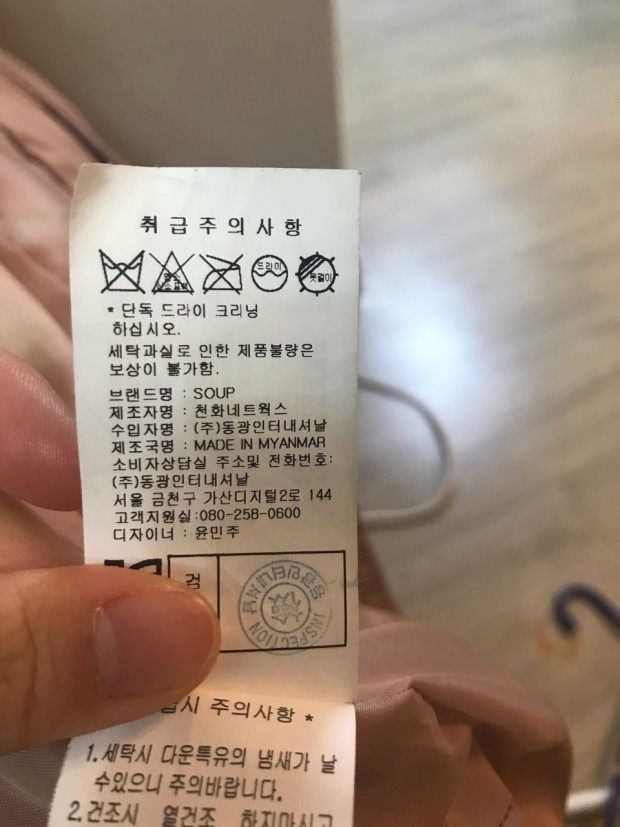KR_dry_clean: (250, 251, 291, 297)
KR_hang_dry_in_shade: (294, 248, 342, 298)
KR_no_bleach: (148, 246, 200, 302)
KR_no_iron: (202, 251, 248, 299)
KR_no_wash: (97, 242, 148, 298)
